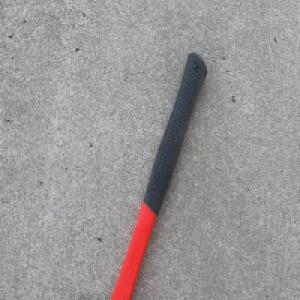Hammer: (109, 50, 208, 300)
